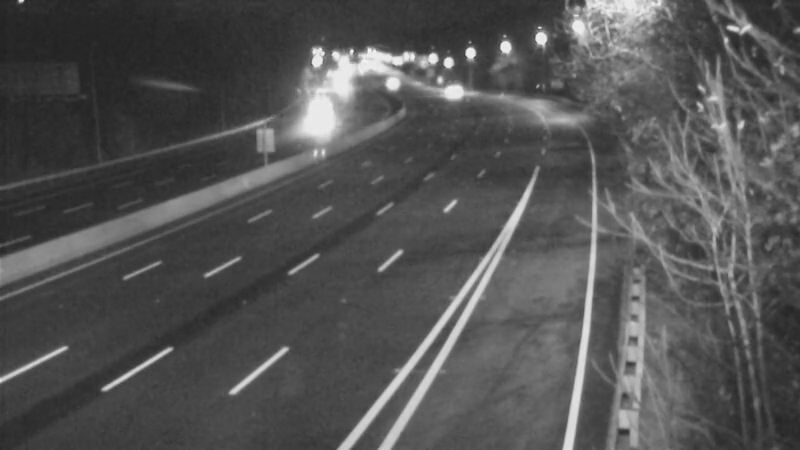vehicle: (369, 59, 419, 109), (421, 66, 471, 116), (291, 81, 341, 131)
